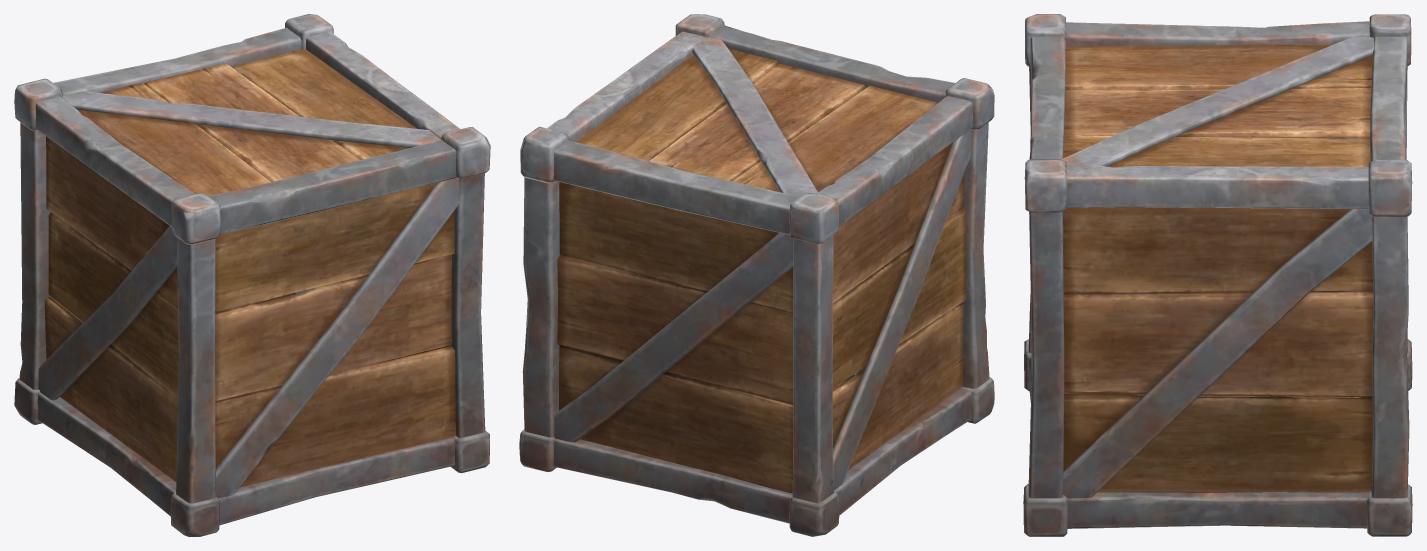
3 views of the same model, side by side, from view 1: azimuth 30°, elevation 25°; view 2: azimuth 150°, elevation 25°; view 3: azimuth 270°, elevation 25° (orthographic). The views are drawn at different scales.
Parts seen in each view (by area): view 1: SM_Goblin_Storage_Box_01_LOD0; view 2: SM_Goblin_Storage_Box_01_LOD0; view 3: SM_Goblin_Storage_Box_01_LOD0.
Boxes of the visible parts, left/top/right/bottom form: SM_Goblin_Storage_Box_01_LOD0: left=14, top=14, right=490, bottom=536; SM_Goblin_Storage_Box_01_LOD0: left=519, top=14, right=994, bottom=536; SM_Goblin_Storage_Box_01_LOD0: left=1023, top=14, right=1412, bottom=536.
Size of the model in its own units: 1.07 by 1.1 by 1.07.
1 material, 1 textured.
